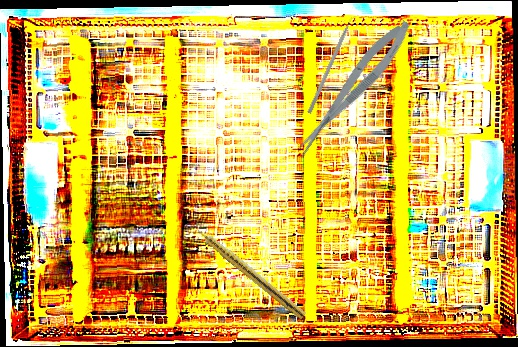Chopper: (307, 11, 361, 117)
Handpiece: (190, 221, 309, 321)
Micro Scissor: (286, 14, 419, 161)
